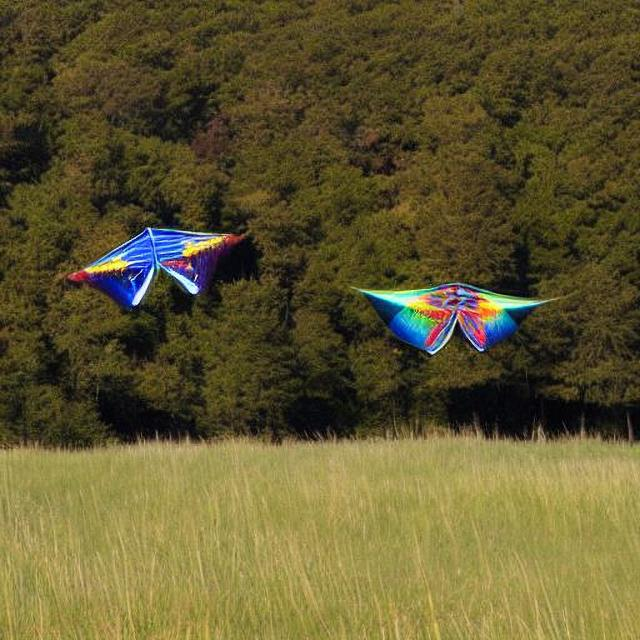floating object: (60, 225, 251, 313), (356, 281, 538, 355)
